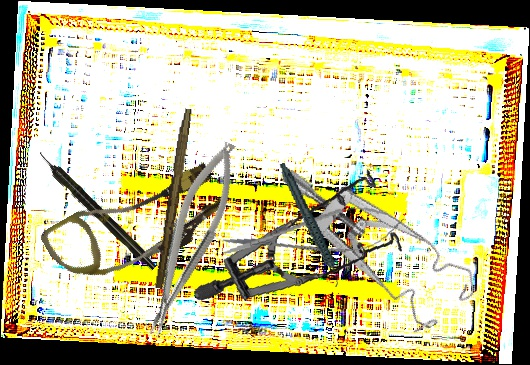Cannula: (38, 144, 235, 307)
Handpiece: (34, 147, 160, 274), (278, 156, 342, 294)
Micro Scissor: (216, 198, 408, 271)
Needle Holder: (127, 135, 253, 342)
Scalpel Handle: (153, 107, 193, 290)
Speculum: (278, 117, 487, 357), (191, 146, 413, 329)
